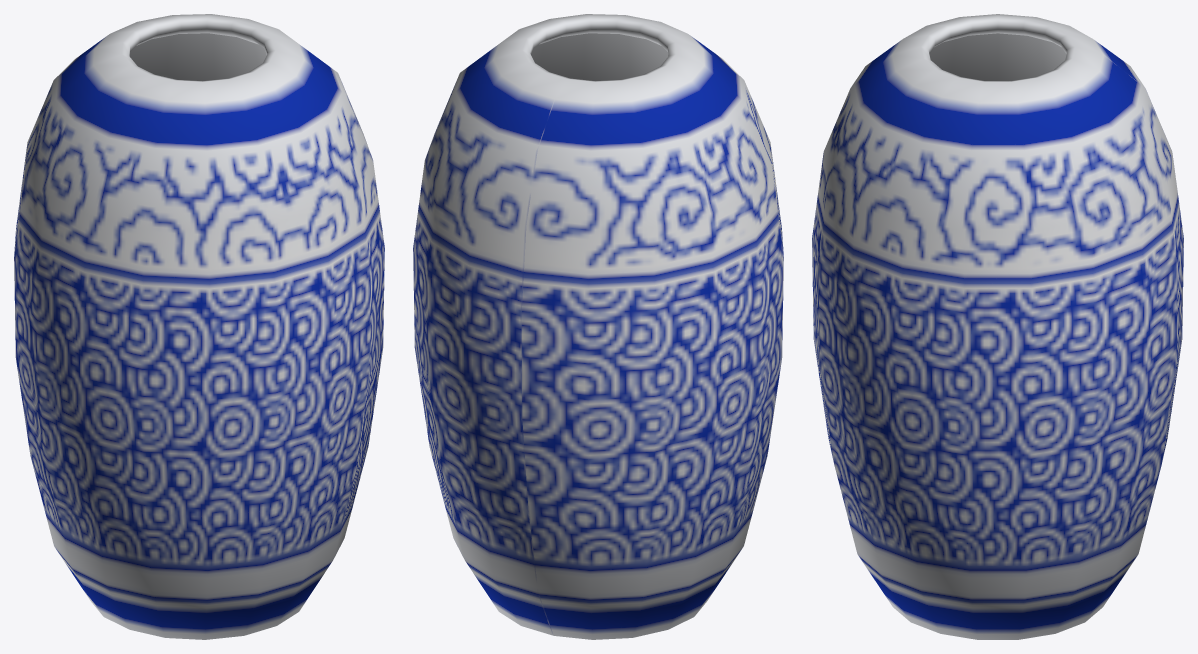
Rendered from Vase_China_Oval_Open.fbx.
The picture shows the model from 3 angles, left to right: view 1: azimuth 30°, elevation 25°; view 2: azimuth 150°, elevation 25°; view 3: azimuth 270°, elevation 25°; orthographic projection.
Visible parts, largest first — view 1: Vase_China_Oval_Open; view 2: Vase_China_Oval_Open; view 3: Vase_China_Oval_Open.
Part boxes in pixels (x1,y1,x2,y2): Vase_China_Oval_Open: (14,14,384,639); Vase_China_Oval_Open: (413,14,783,639); Vase_China_Oval_Open: (812,14,1183,639).
Bounding box in the file's own units: 56.57 × 94.11 × 56.82.
